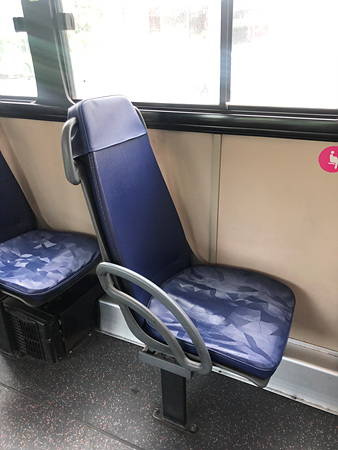seat: (65, 92, 299, 390)
